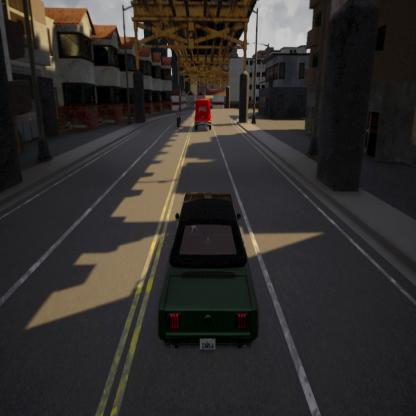Cars: (161, 191, 257, 353), (194, 98, 212, 131), (175, 105, 181, 128)
